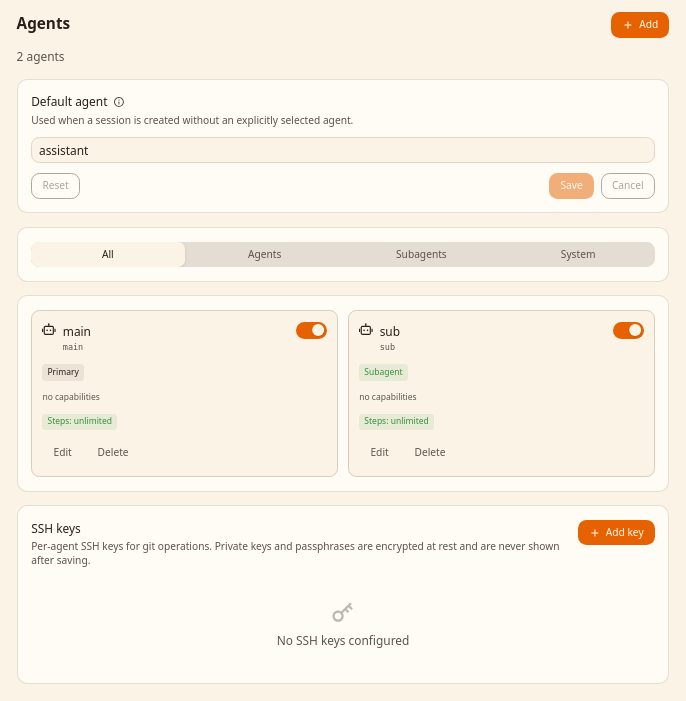
it: AgentsPanel — фильтр на Kit Tabs (ADR-072) › клик по вкладке Subagents фильтрует список
Click the tab "Subagents".
click(421, 254)  # box [345,242,498,267]
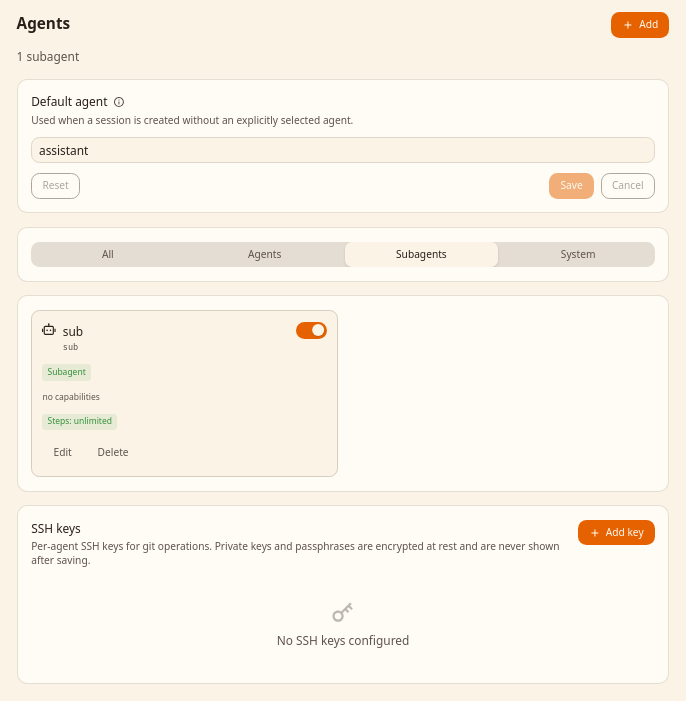
Check: the text "sub" is shown, box [17,48,79,64]
Check: the text "main" is gone
